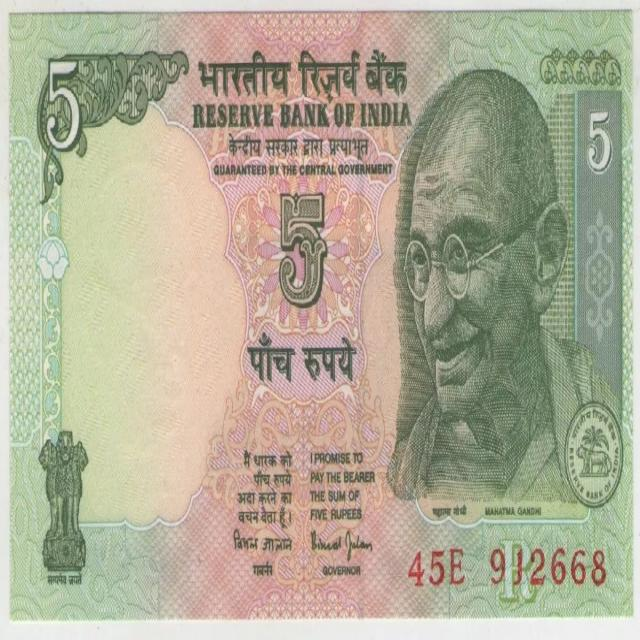5IndianRupees: (13, 16, 633, 613)
